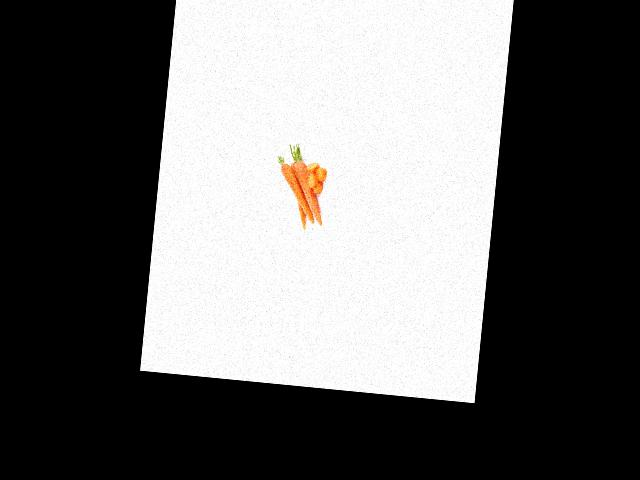carrot: (289, 157, 330, 226)
